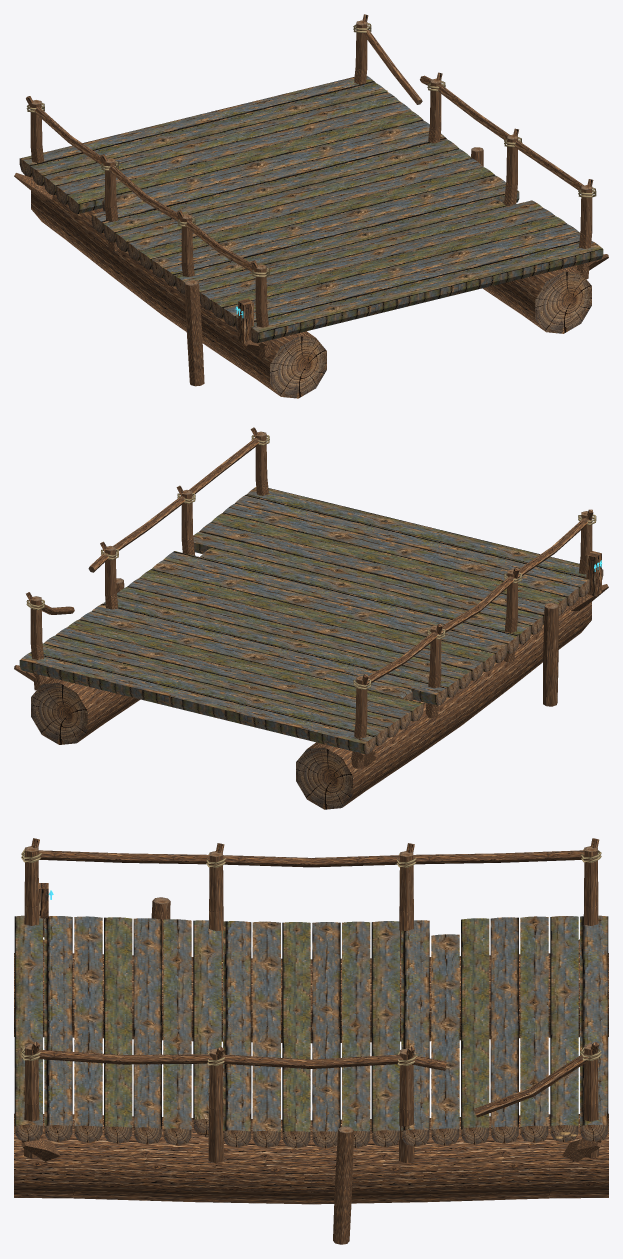
Rendered from bridge-log2.glb.
The picture shows the model from 3 angles, top to bottom: view 1: azimuth 30°, elevation 25°; view 2: azimuth 150°, elevation 25°; view 3: azimuth 270°, elevation 25°; orthographic projection. The views are drawn at different scales.
Parts seen in each view (by area): view 1: deck, stringers, posts, rails, stakes, ropes, roots, runepost; view 2: deck, stringers, posts, rails, stakes, ropes, runepost, roots; view 3: deck, stringers, rails, posts, stakes, roots, ropes.
Part boxes in pixels (bbox=[...]): deck: bbox=[19, 76, 603, 343]; stringers: bbox=[31, 191, 591, 398]; posts: bbox=[26, 14, 593, 357]; rails: bbox=[33, 30, 583, 271]; stakes: bbox=[185, 147, 483, 386]; ropes: bbox=[26, 22, 596, 277]; roots: bbox=[14, 173, 608, 355]; runepost: bbox=[238, 299, 253, 344]; deck: bbox=[19, 487, 603, 754]; stringers: bbox=[31, 602, 591, 809]; posts: bbox=[26, 427, 593, 768]; rails: bbox=[41, 438, 589, 684]; stakes: bbox=[116, 578, 558, 706]; ropes: bbox=[26, 435, 596, 689]; runepost: bbox=[586, 551, 601, 596]; roots: bbox=[14, 584, 608, 766]; deck: bbox=[14, 915, 608, 1148]; stringers: bbox=[14, 953, 608, 1204]; rails: bbox=[35, 850, 589, 1117]; posts: bbox=[24, 838, 599, 1163]; stakes: bbox=[151, 897, 353, 1244]; roots: bbox=[21, 939, 601, 1161]; ropes: bbox=[21, 848, 601, 1065].
Bounding box in the file's own units: 4.48 × 1.8 × 5.
6 materials, 3 textured.
